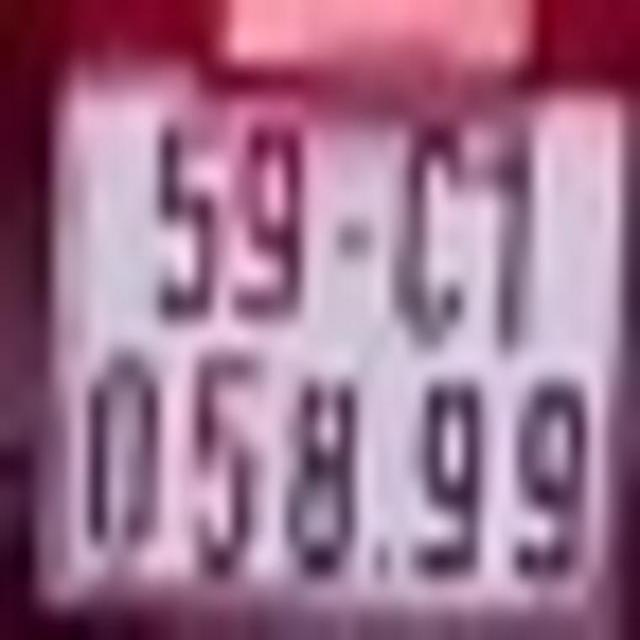0: (76, 339, 160, 552)
1: (480, 111, 530, 346)
5: (190, 348, 260, 583), (157, 115, 219, 311)
8: (290, 376, 354, 575)
9: (514, 369, 588, 585), (414, 380, 480, 582), (243, 108, 303, 310)
C: (402, 115, 466, 336)
